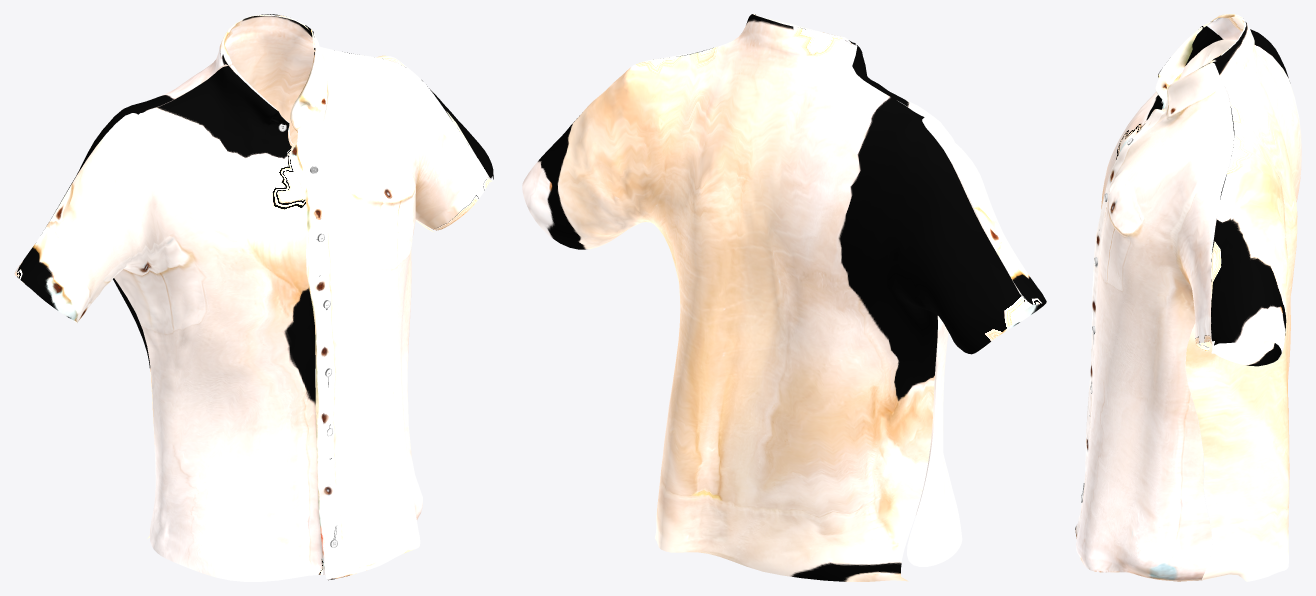
The model's file is short_sleeves_main.glb.
The picture shows the model from 3 angles, left to right: view 1: azimuth 30°, elevation 25°; view 2: azimuth 150°, elevation 25°; view 3: azimuth 270°, elevation 25°; orthographic projection. The views are drawn at different scales.
Visible parts, largest first — view 1: all; view 2: all; view 3: all.
Boxes of the visible parts, x1,y1,x2,y2 form: all: [14, 14, 493, 581]; all: [522, 14, 1046, 581]; all: [1075, 14, 1301, 581].
Bounding box in the file's own units: 0.6285 × 0.64 × 0.2593.
2 materials, 1 textured.
